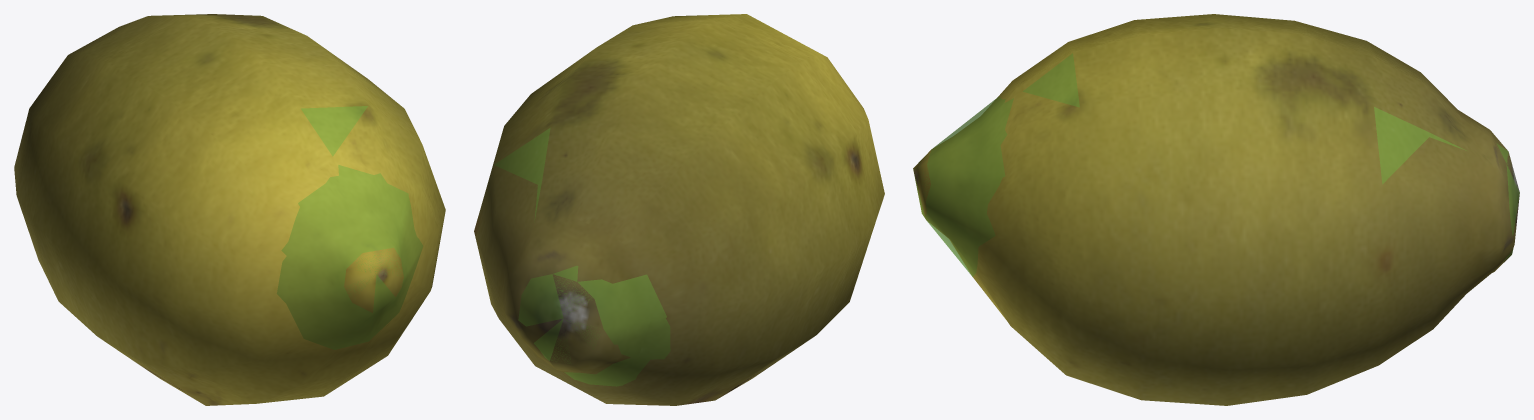
Rendered from pg_Lemon_04.fbx.
3 renders of one model, left to right at view 1: azimuth 30°, elevation 25°; view 2: azimuth 150°, elevation 25°; view 3: azimuth 270°, elevation 25°, orthographic. The views are drawn at different scales.
Parts seen in each view (by area): view 1: pg_Lemon_04_a_LOD0, pg_Lemon_04_a_col; view 2: pg_Lemon_04_a_LOD0, pg_Lemon_04_a_col; view 3: pg_Lemon_04_a_LOD0, pg_Lemon_04_a_col.
Part boxes in pixels (x1=…): pg_Lemon_04_a_LOD0: x1=14, y1=14, x2=445, y2=405; pg_Lemon_04_a_col: x1=277, y1=106, x2=422, y2=349; pg_Lemon_04_a_LOD0: x1=474, y1=14, x2=884, y2=405; pg_Lemon_04_a_col: x1=494, y1=128, x2=670, y2=386; pg_Lemon_04_a_LOD0: x1=913, y1=14, x2=1519, y2=405; pg_Lemon_04_a_col: x1=913, y1=53, x2=1519, y2=276.
Size of what is drawn, in the model's own units: 5.65 by 5.56 by 8.51.
2 materials, 1 textured.
